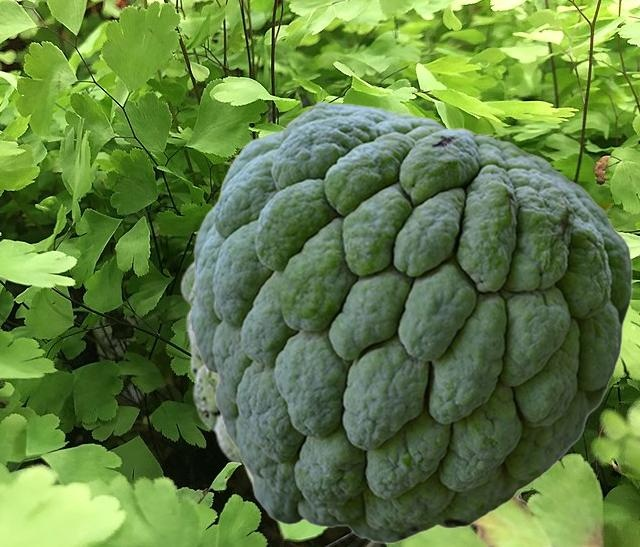atis: (189, 101, 632, 542), (179, 203, 612, 493)
